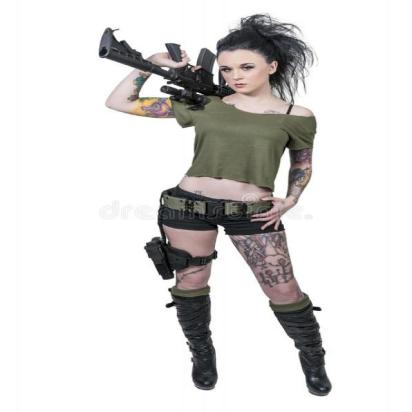Gun: (95, 24, 228, 105)
